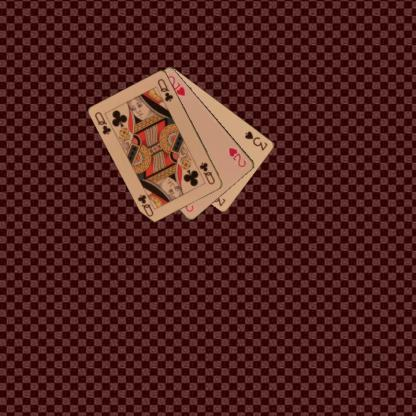2h: (226, 144, 247, 169)
3s: (242, 128, 269, 152)
Qc: (92, 109, 113, 136), (197, 160, 216, 186)
